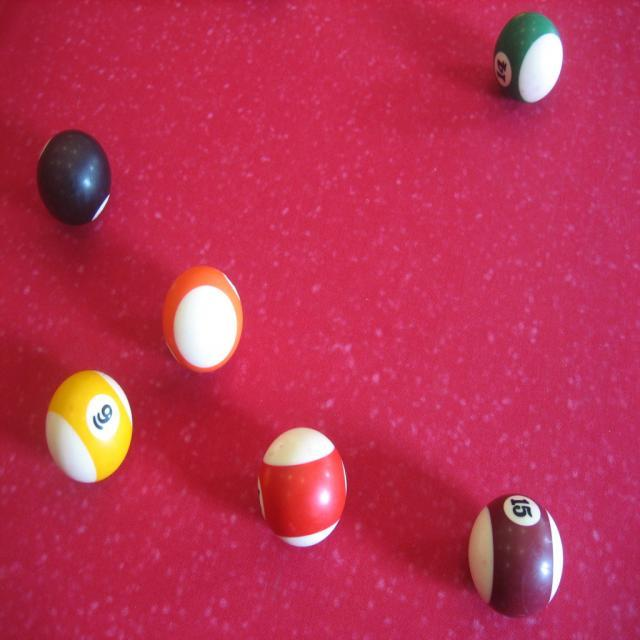Ball: (466, 492, 565, 618), (255, 426, 345, 547), (46, 368, 132, 485), (160, 262, 244, 375), (37, 128, 111, 226), (492, 11, 564, 105)
Billiard table: (1, 0, 639, 638)
